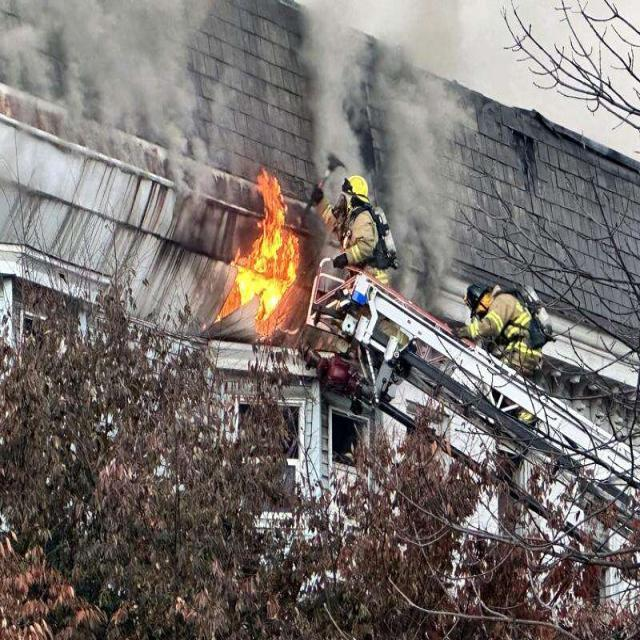Fire: (219, 170, 299, 323)
Smoke: (300, 0, 469, 306), (8, 1, 212, 200)
